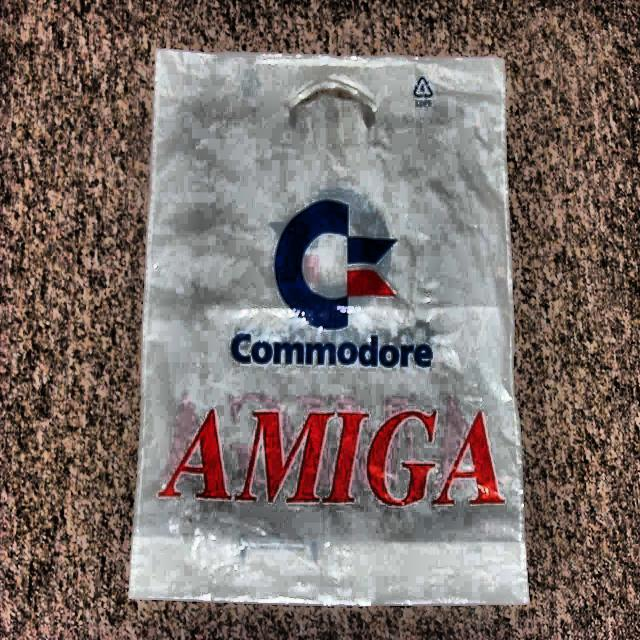Plastic: (132, 27, 546, 633)
